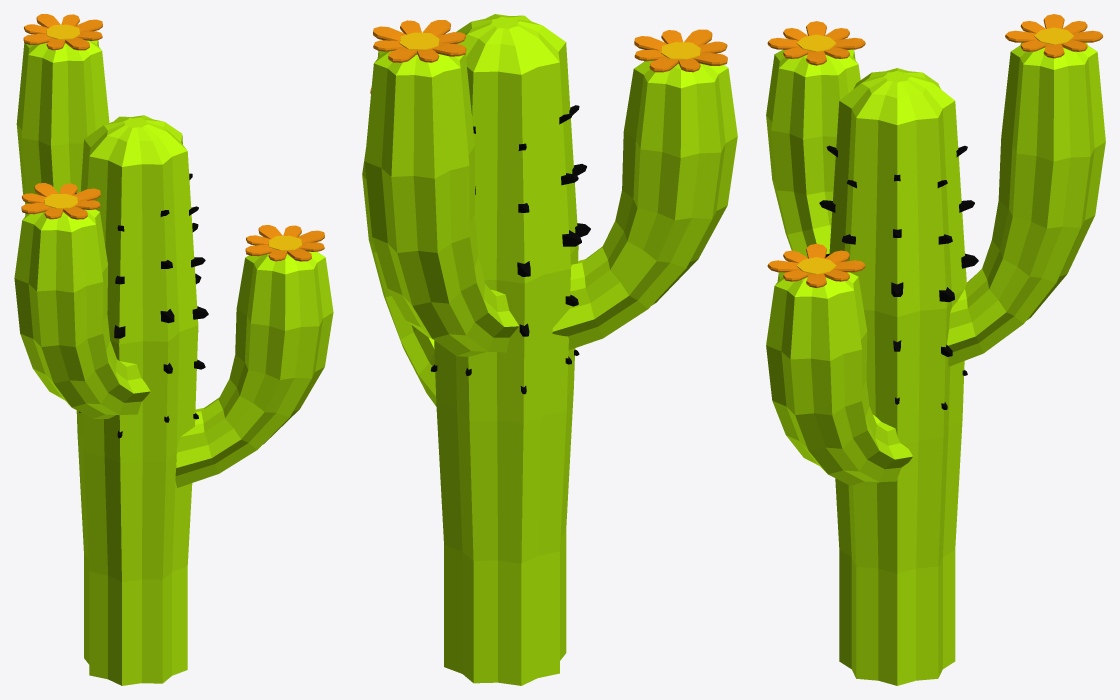
File: Cardon02_03Brazos_Flor_Anaranjada.fbx
3 views of the same model, side by side, from view 1: azimuth 30°, elevation 25°; view 2: azimuth 150°, elevation 25°; view 3: azimuth 270°, elevation 25° (orthographic). The views are drawn at different scales.
Parts seen in each view (by area): view 1: Cactus, Flor_Anaranjada, Espinas; view 2: Cactus, Flor_Anaranjada, Espinas; view 3: Cactus, Flor_Anaranjada, Espinas.
Part boxes in pixels (left/top/right/bottom): Cactus: left=14, top=40, right=333, bottom=685; Flor_Anaranjada: left=21, top=14, right=324, bottom=261; Espinas: left=75, top=173, right=208, bottom=438; Cactus: left=362, top=14, right=737, bottom=685; Flor_Anaranjada: left=370, top=20, right=727, bottom=93; Espinas: left=430, top=105, right=590, bottom=394; Cactus: left=766, top=42, right=1105, bottom=685; Flor_Anaranjada: left=767, top=14, right=1103, bottom=287; Espinas: left=819, top=145, right=978, bottom=409.
Size of the model in its own units: 124 by 226 by 111.
